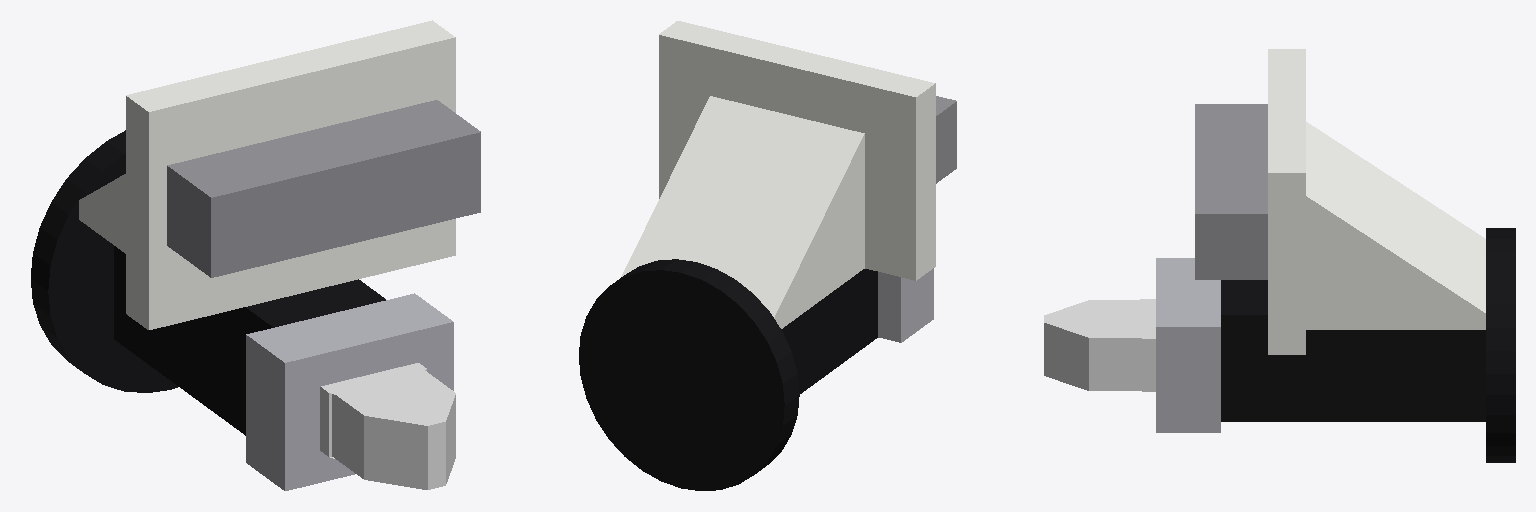
URDF robot description (fairino5_v6_robot):
<?xml version="1.0" encoding="utf-8"?>
<!-- This URDF was automatically created by SolidWorks to URDF Exporter! Originally created by Stephen Brawner (brawner@gmail.com) 
     Commit Version: 1.5.1-0-g916b5db  Build Version: 1.5.7152.31018
     For more information, please see http://wiki.ros.org/sw_urdf_exporter -->
<robot
  name="fairino5_v6_robot">
  <link
    name="base_link">
    <inertial>
      <origin
        xyz="-0.00031896 -0.00029673 0.042463"
        rpy="0 0 0" />
      <mass
        value="1.6185" />
      <inertia
        ixx="0.0030836"
        ixy="1.5354E-05"
        ixz="-1.9315E-05"
        iyy="0.0030825"
        iyz="-1.7918E-05"
        izz="0.0045209" />
    </inertial>
    <visual>
      <origin
        xyz="0 0 0"
        rpy="0 0 0" />
      <geometry>
        <mesh
          filename="meshes/base_link.STL" />
      </geometry>
      <material
        name="">
        <color
          rgba="0.89804 0.91765 0.92941 1" />
      </material>
    </visual>
    <collision>
      <origin
        xyz="0 0 0"
        rpy="0 0 0" />
      <geometry>
        <mesh
          filename="meshes/base_link.STL" />
      </geometry>
    </collision>
  </link>
  <link
    name="shoulder_link">
    <inertial>
      <origin
        xyz="-0.00019 -0.01828 0.00226"
        rpy="0 0 0" />
      <mass
        value="4.64" />
      <inertia
        ixx="0.00938391"
        ixy="-0.00005883"
        ixz="-0.00003305"
        iyy="0.0077422"
        iyz="0.00022287"
        izz="0.00932449" />
    </inertial>
    <visual>
      <origin
        xyz="0 0 0"
        rpy="0 0 0" />
      <geometry>
        <mesh
          filename="meshes/shoulder_link.STL" />
      </geometry>
      <material
        name="">
        <color
          rgba="0.89804 0.91765 0.92941 1" />
      </material>
    </visual>
    <collision>
      <origin
        xyz="0 0 0"
        rpy="0 0 0" />
      <geometry>
        <mesh
          filename="meshes/shoulder_link.STL" />
      </geometry>
    </collision>
  </link>
  <joint
    name="j1"
    type="revolute">
    <origin
      xyz="0 0 0"
      rpy="0 0 0" />
    <parent
      link="base_link" />
    <child
      link="shoulder_link" />
    <axis
      xyz="0 0 1" />
    <limit
      lower="-3.0543"
      upper="3.0543"
      effort="150"
      velocity="3.15" />
    <calibration
      rising="0"
      falling="0" />
    <dynamics
      damping="0"
      friction="0" />
    <safety_controller
      soft_lower_limit="-3.0543"
      soft_upper_limit="3.0543"
      k_position="15"
      k_velocity="10" />
  </joint>
  <link
    name="upperarm_link">
    <inertial>
      <origin
        xyz="0.21247 0.0 0.1212"
        rpy="0 0 0" />
      <mass
        value="10.08" />
      <inertia
        ixx="0.02060496"
        ixy="0.00028019"
        ixz="0.00000262"
        iyy="0.43899432"
        iyz="-0.00000268"
        izz="0.435456" />
    </inertial>
    <visual>
      <origin
        xyz="0 0 0"
        rpy="0 0 0" />
      <geometry>
        <mesh
          filename="meshes/upperarm_link.STL" />
      </geometry>
      <material
        name="">
        <color
          rgba="0.89804 0.91765 0.92941 1" />
      </material>
    </visual>
    <collision>
      <origin
        xyz="0 0 0"
        rpy="0 0 0" />
      <geometry>
        <mesh
          filename="meshes/upperarm_link.STL" />
      </geometry>
    </collision>
  </link>
  <joint
    name="j2"
    type="revolute">
    <origin
      xyz="0 0 0.152"
      rpy="1.5708 0 0" />
    <parent
      link="shoulder_link" />
    <child
      link="upperarm_link" />
    <axis
      xyz="0 0 1" />
    <limit
      lower="-4.6251"
      upper="1.4835"
      effort="150"
      velocity="3.15" />
    <calibration
      rising="0"
      falling="0" />
    <dynamics
      damping="0"
      friction="0" />
    <safety_controller
      soft_lower_limit="-4.6251"
      soft_upper_limit="1.4835"
      k_position="15"
      k_velocity="10" />
  </joint>
  <link
    name="forearm_link">
    <inertial>
      <origin
        xyz="0.12262 0.00017 0.01259"
        rpy="0 0 0" />
      <mass
        value="2.71" />
      <inertia
        ixx="0.00357541"
        ixy="0.0000957"
        ixz="0.00022485"
        iyy="0.07148285"
        iyz="0.00000343"
        izz="0.07111915" />
    </inertial>
    <visual>
      <origin
        xyz="0 0 0"
        rpy="0 0 0" />
      <geometry>
        <mesh
          filename="meshes/forearm_link.STL" />
      </geometry>
      <material
        name="">
        <color
          rgba="0.89804 0.91765 0.92941 1" />
      </material>
    </visual>
    <collision>
      <origin
        xyz="0 0 0"
        rpy="0 0 0" />
      <geometry>
        <mesh
          filename="meshes/forearm_link.STL" />
      </geometry>
    </collision>
  </link>
  <joint
    name="j3"
    type="revolute">
    <origin
      xyz="-0.425 0 0"
      rpy="0 0 0" />
    <parent
      link="upperarm_link" />
    <child
      link="forearm_link" />
    <axis
      xyz="0 0 1" />
    <limit
      lower="-2.8274"
      upper="2.8274"
      effort="150"
      velocity="3.15" />
    <calibration
      rising="0"
      falling="0" />
    <dynamics
      damping="0"
      friction="0" />
    <safety_controller
      soft_lower_limit="-2.8274"
      soft_upper_limit="2.8274"
      k_position="15"
      k_velocity="10" />
  </joint>
  <link
    name="wrist1_link">
    <inertial>
      <origin
        xyz="0.00005 -0.00233 0.01468"
        rpy="0 0 0" />
      <mass
        value="1.56" />
      <inertia
        ixx="0.00162595"
        ixy="-0.00000285"
        ixz="-0.00000347"
        iyy="0.0015802"
        iyz="0.00006131"
        izz="0.00125526" />
    </inertial>
    <visual>
      <origin
        xyz="0 0 0"
        rpy="0 0 0" />
      <geometry>
        <mesh
          filename="meshes/wrist1_link.STL" />
      </geometry>
      <material
        name="">
        <color
          rgba="0.89804 0.91765 0.92941 1" />
      </material>
    </visual>
    <collision>
      <origin
        xyz="0 0 0"
        rpy="0 0 0" />
      <geometry>
        <mesh
          filename="meshes/wrist1_link.STL" />
      </geometry>
    </collision>
  </link>
  <joint
    name="j4"
    type="revolute">
    <origin
      xyz="-0.39501 0 0"
      rpy="0 0 0" />
    <parent
      link="forearm_link" />
    <child
      link="wrist1_link" />
    <axis
      xyz="0 0 1" />
    <limit
      lower="-4.6251"
      upper="1.4835"
      effort="28"
      velocity="3.2" />
    <calibration
      rising="0"
      falling="0" />
    <dynamics
      damping="0"
      friction="0" />
    <safety_controller
      soft_lower_limit="-4.6251"
      soft_upper_limit="1.4835"
      k_position="15"
      k_velocity="10" />
  </joint>
  <link
    name="wrist2_link">
    <inertial>
      <origin
        xyz="-0.00005 0.00233 0.01468"
        rpy="0 0 0" />
      <mass
        value="1.56" />
      <inertia
        ixx="0.00162595"
        ixy="-0.00000285"
        ixz="0.00000347"
        iyy="0.0015802"
        iyz="-0.00006131"
        izz="0.00125526" />
    </inertial>
    <visual>
      <origin
        xyz="0 0 0"
        rpy="0 0 0" />
      <geometry>
        <mesh
          filename="meshes/wrist2_link.STL" />
      </geometry>
      <material
        name="">
        <color
          rgba="0.89804 0.91765 0.92941 1" />
      </material>
    </visual>
    <collision>
      <origin
        xyz="0 0 0"
        rpy="0 0 0" />
      <geometry>
        <mesh
          filename="meshes/wrist2_link.STL" />
      </geometry>
    </collision>
  </link>
  <joint
    name="j5"
    type="revolute">
    <origin
      xyz="0 0 0.1021"
      rpy="1.5708 0 0" />
    <parent
      link="wrist1_link" />
    <child
      link="wrist2_link" />
    <axis
      xyz="0 0 1" />
    <limit
      lower="-3.0543"
      upper="3.0543"
      effort="28"
      velocity="3.2" />
    <calibration
      rising="0"
      falling="0" />
    <dynamics
      damping="0"
      friction="0" />
    <safety_controller
      soft_lower_limit="-3.0543"
      soft_upper_limit="3.0543"
      k_position="15"
      k_velocity="10" />
  </joint>
  <link
    name="wrist3_link">
    <inertial>
      <origin
        xyz="0.00093 0.00081 -0.02005"
        rpy="0 0 0" />
      <mass
        value="0.36" />
      <inertia
        ixx="0.00023009"
        ixy="0.00000013"
        ixz="0.00000098"
        iyy="0.00023049"
        iyz="0.00000085"
        izz="0.0003593" />
    </inertial>
    <visual>
      <origin
        xyz="0 0 0"
        rpy="0 0 0" />
      <geometry>
        <mesh
          filename="meshes/wrist3_link.STL" />
      </geometry>
      <material
        name="">
        <color
          rgba="0.89804 0.91765 0.92941 1" />
      </material>
    </visual>
    <collision>
      <origin
        xyz="0 0 0"
        rpy="0 0 0" />
      <geometry>
        <mesh
          filename="meshes/wrist3_link.STL" />
      </geometry>
    </collision>
  </link>
  <joint
    name="j6"
    type="revolute">
    <origin
      xyz="0 0 0.102"
      rpy="-1.5708 0 0" />
    <parent
      link="wrist2_link" />
    <child
      link="wrist3_link" />
    <axis
      xyz="0 0 1" />
    <limit
      lower="-3.0543"
      upper="3.0543"
      effort="28"
      velocity="3.2" />
    <calibration
      rising="0"
      falling="0" />
    <dynamics
      damping="0"
      friction="0" />
    <safety_controller
      soft_lower_limit="-3.0543"
      soft_upper_limit="3.0543"
      k_position="15"
      k_velocity="10" />
  </joint>

  <!-- ===== DH Robotics PGEA-100-40-O (measured 2026-11-21; see make_pgea_urdf.py for assumed values) ===== -->
  <material name="pgea_black"><color rgba="0.12 0.12 0.13 1"/></material>
  <material name="pgea_white"><color rgba="0.92 0.92 0.92 1"/></material>
  <material name="pgea_alu"><color rgba="0.75 0.75 0.78 1"/></material>
  <joint name="pgea_mount" type="fixed">
    <origin xyz="0 0 0.100" rpy="0 0 0"/><parent link="wrist3_link"/><child link="pgea_base"/>
  </joint>
  <link name="pgea_base">
    <inertial><origin xyz="0 0 0.065"/><mass value="0.55"/>
      <inertia ixx="0.000755517" ixy="0" ixz="0" iyy="0.000820829" iyz="0" izz="0.000211979"/></inertial>
    <visual name="adapter"><origin xyz="0 0 0.0050"/><geometry><cylinder radius="0.0400" length="0.0100"/></geometry><material name="pgea_black"/></visual>
    <collision name="adapter"><origin xyz="0 0 0.0050"/><geometry><cylinder radius="0.0400" length="0.0100"/></geometry></collision>
    <visual name="body"><origin xyz="0 0 0.0550"/><geometry><box size="0.0370 0.0400 0.0900"/></geometry><material name="pgea_black"/></visual>
    <collision name="body"><origin xyz="0 0 0.0550"/><geometry><box size="0.0370 0.0400 0.0900"/></geometry></collision>
    <visual name="housing"><origin xyz="0 0 0.1110"/><geometry><box size="0.0550 0.0400 0.0220"/></geometry><material name="pgea_alu"/></visual>
    <collision name="housing"><origin xyz="0 0 0.1110"/><geometry><box size="0.0550 0.0400 0.0220"/></geometry></collision>
  </link>
  <link name="finger_left">
    <inertial><origin xyz="0.0080 0 0.019"/><mass value="0.03"/>
      <inertia ixx="4.61e-06" ixy="0" ixz="0" iyy="4.25e-06" iyz="0" izz="1.64e-06"/></inertial>
    <visual><geometry><mesh filename="../pgea_description/meshes/finger_left.stl"/></geometry><material name="pgea_white"/></visual>
    <collision><geometry><mesh filename="../pgea_description/meshes/finger_left.stl"/></geometry></collision>
  </link>
  <joint name="finger_left_joint" type="prismatic">
    <origin xyz="0 0 0.1220" rpy="0 0 0"/><parent link="pgea_base"/><child link="finger_left"/>
    <axis xyz="1 0 0"/><limit lower="0" upper="0.0220" effort="100" velocity="0.05"/>
  </joint>
  <link name="finger_right">
    <inertial><origin xyz="-0.0080 0 0.019"/><mass value="0.03"/>
      <inertia ixx="4.61e-06" ixy="0" ixz="0" iyy="4.25e-06" iyz="0" izz="1.64e-06"/></inertial>
    <visual><geometry><mesh filename="../pgea_description/meshes/finger_right.stl"/></geometry><material name="pgea_white"/></visual>
    <collision><geometry><mesh filename="../pgea_description/meshes/finger_right.stl"/></geometry></collision>
  </link>
  <joint name="finger_right_joint" type="prismatic">
    <origin xyz="0 0 0.1220" rpy="0 0 0"/><parent link="pgea_base"/><child link="finger_right"/>
    <axis xyz="-1 0 0"/><limit lower="0" upper="0.0220" effort="100" velocity="0.05"/>
  </joint>
  <!-- TCP = fingertip centre, FR5 tool 1 (0, 0, 160) -->
  <link name="tcp"/>
  <joint name="tcp_joint" type="fixed">
    <origin xyz="0 0 0.1600" rpy="0 0 0"/><parent link="pgea_base"/><child link="tcp"/>
  </joint>
  <!-- ===== D435 bracket (3D printed, measured 2026-11-24) + RealSense D435 ===== -->
  <material name="bracket_white"><color rgba="0.96 0.96 0.94 1"/></material>
  <material name="d435_gray"><color rgba="0.62 0.62 0.64 1"/></material>
  <link name="d435_bracket">
    <inertial><origin xyz="0 0.045 0.070"/><mass value="0.08"/>
      <inertia ixx="5e-5" ixy="0" ixz="0" iyy="5e-5" iyz="0" izz="5e-5"/></inertial>
    <visual name="wall"><origin xyz="0.0000 0.0230 0.0470"/><geometry><box size="0.0600 0.0060 0.0740"/></geometry><material name="bracket_white"/></visual>
    <collision name="wall"><origin xyz="0.0000 0.0230 0.0470"/><geometry><box size="0.0600 0.0060 0.0740"/></geometry></collision>
    <visual name="plate"><origin xyz="0.0000 0.0540 0.0775"/><geometry><box size="0.1000 0.0680 0.0130"/></geometry><material name="bracket_white"/></visual>
    <collision name="plate"><origin xyz="0.0000 0.0540 0.0775"/><geometry><box size="0.1000 0.0680 0.0130"/></geometry></collision>
    <visual name="gusset"><geometry><mesh filename="../pgea_description/meshes/bracket_gusset.stl"/></geometry><material name="bracket_white"/></visual>
    <collision name="gusset"><geometry><mesh filename="../pgea_description/meshes/bracket_gusset.stl"/></geometry></collision>
  </link>
  <joint name="d435_bracket_joint" type="fixed">
    <origin xyz="0 0 0" rpy="0 0 0"/><parent link="pgea_base"/><child link="d435_bracket"/>
  </joint>
  <!-- d435_link = camera body centre; long axis along tool X -->
  <link name="d435_link">
    <inertial><origin xyz="0 0 0"/><mass value="0.072"/>
      <inertia ixx="7.5e-06" ixy="0" ixz="0" iyy="5.0214e-05" iyz="0" izz="5.0214e-05"/></inertial>
    <visual name="body"><origin xyz="0.0000 0.0000 0.0000"/><geometry><box size="0.0880 0.0250 0.0250"/></geometry><material name="d435_gray"/></visual>
    <collision name="body"><origin xyz="0.0000 0.0000 0.0000"/><geometry><box size="0.0880 0.0250 0.0250"/></geometry></collision>
  </link>
  <joint name="d435_joint" type="fixed">
    <origin xyz="0 0.0575 0.0965" rpy="0 0 0"/><parent link="pgea_base"/><child link="d435_link"/>
  </joint>
  <!-- optical frame (REP-103 optical: +Z out of the lens = tool +Z, down) at the lens face centre.
       The real depth origin is the left IR imager, ~17.5 mm off centre along X: calibrate hand-eye before use. -->
  <link name="d435_optical_frame"/>
  <joint name="d435_optical_joint" type="fixed">
    <origin xyz="0 0 0.0125" rpy="0 0 0"/><parent link="d435_link"/><child link="d435_optical_frame"/>
  </joint>
</robot>

--- Render facts (derived) ---
3 views of the same robot in one strip: view 1: azimuth 30°, elevation 25°; view 2: azimuth 150°, elevation 25°; view 3: azimuth 270°, elevation 25° (orthographic).
Robot: fairino5_v6_robot — 14 links, 13 joints (6 revolute, 2 prismatic, 5 fixed); root link base_link; default pose: every joint at zero.
Visible links, largest first — view 1: pgea_base, d435_bracket, d435_link, finger_right, finger_left; view 2: d435_bracket, pgea_base, d435_link; view 3: pgea_base, d435_bracket, d435_link, finger_left, finger_right.
Link boxes in pixels (<box>): pgea_base: <box>31,130,453,490</box>; d435_bracket: <box>79,20,455,329</box>; d435_link: <box>167,100,480,277</box>; finger_right: <box>320,375,436,489</box>; finger_left: <box>370,363,455,487</box>; d435_bracket: <box>621,21,935,328</box>; pgea_base: <box>579,259,933,490</box>; d435_link: <box>936,96,956,183</box>; pgea_base: <box>1156,228,1515,462</box>; d435_bracket: <box>1268,49,1485,354</box>; d435_link: <box>1195,104,1267,279</box>; finger_left: <box>1044,319,1155,391</box>; finger_right: <box>1044,299,1155,318</box>.
Bounding box of the posed robot: 0.1 × 0.16 × 0.128 m (x, y, z).
Meshes: 10 distinct files referenced, 3 mesh visuals loaded (3 binary STL); not drawn: 7 (reference not matched to a file when rendering).
